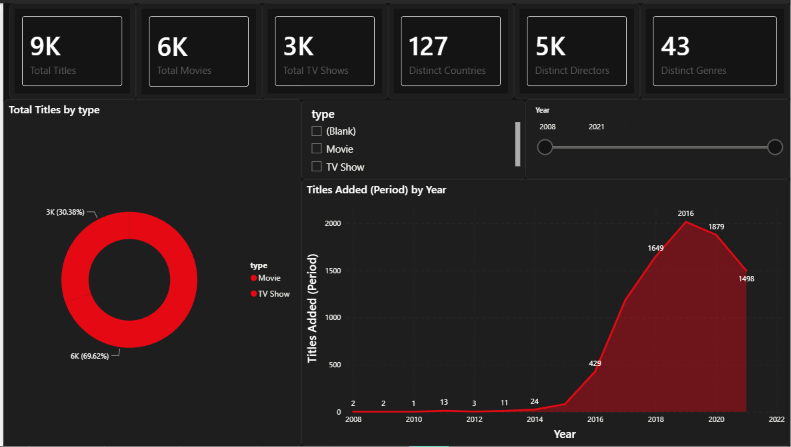

The page's visual inventory and layout, read from the dashboard file:
{"tool":"powerbi","page":{"name":"Page 1","canvas":[1280,720],"ordinal":0},"visuals":[{"type":"cardVisual","fields":{"Data":["Fact_Titles.Total Titles"]},"box":[9.4,0,206,156.9],"z":0},{"type":"cardVisual","fields":{"Data":["Fact_Titles.Total Movies"]},"box":[216.3,0,204.9,157.8],"z":1},{"type":"cardVisual","fields":{"Data":["Fact_Titles.Total TV Shows"]},"box":[421.3,0,204.9,156.1],"z":2},{"type":"cardVisual","fields":{"Data":["Fact_Titles.Distinct Countries"]},"box":[626.2,0,204.9,156.1],"z":3},{"type":"cardVisual","fields":{"Data":["Fact_Titles.Distinct Directors"]},"box":[831.2,0,204.9,156.1],"z":4},{"type":"cardVisual","fields":{"Data":["Fact_Titles.Distinct Genres"]},"box":[1036.1,0,244,156.1],"z":5},{"type":"donutChart","fields":{"Category":["Fact_Titles.type"],"Y":["Fact_Titles.Total Titles"]},"box":[0,156.1,484.7,564.4],"z":6},{"type":"areaChart","fields":{"Category":["Dim_Date.Year"],"Y":["Fact_Titles.Titles Added (Period)"]},"box":[484.7,286.3,795.4,434.3],"z":7},{"type":"slicer","fields":{"Values":["Dim_Date.Year"]},"box":[849.1,156.1,431,130.1],"z":8},{"type":"slicer","fields":{"Values":["Fact_Titles.type"]},"box":[484.7,157.8,364.3,128.5],"z":9}]}

Visuals, with their boxes in screenshot pixels (x1, y1, x2, y2), scaled from the page's 1280x720 canvas onto the 791x447 screenshot:
cardVisual - Fact_Titles.Total Titles: (6,0,133,97)
cardVisual - Fact_Titles.Total Movies: (134,0,260,98)
cardVisual - Fact_Titles.Total TV Shows: (260,0,387,97)
cardVisual - Fact_Titles.Distinct Countries: (387,0,514,97)
cardVisual - Fact_Titles.Distinct Directors: (514,0,640,97)
cardVisual - Fact_Titles.Distinct Genres: (640,0,790,97)
donutChart - Fact_Titles.type x Fact_Titles.Total Titles: (0,97,300,446)
areaChart - Dim_Date.Year x Fact_Titles.Titles Added (Period): (300,178,790,446)
slicer - Dim_Date.Year: (525,97,790,178)
slicer - Fact_Titles.type: (300,98,525,178)
